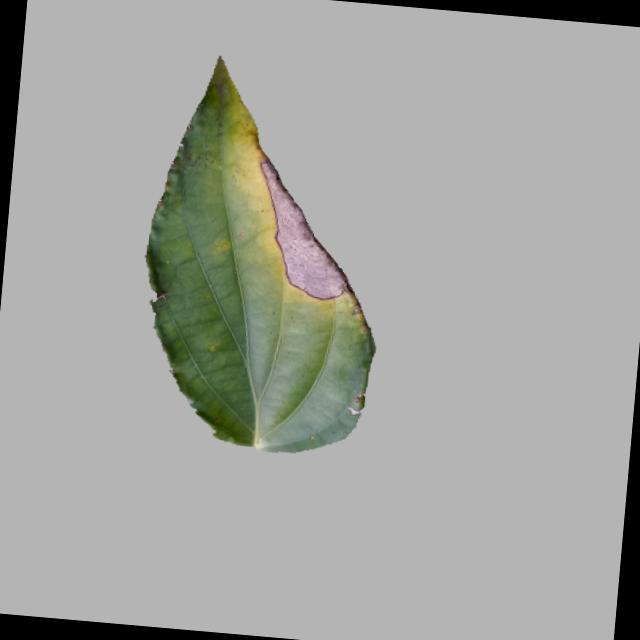leaf-blight: (128, 51, 418, 466)
